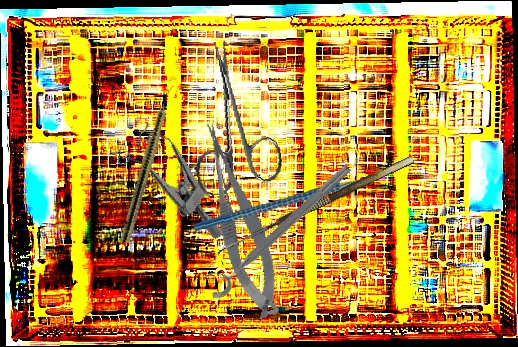Chopper: (192, 149, 391, 241)
Fixation Ring: (197, 153, 356, 303)
Handpiece: (119, 82, 177, 245)
Hook Surgical: (214, 155, 420, 266)
Iris Scissors: (175, 36, 286, 198)
Micro Scissor: (198, 116, 285, 324)
Speculum: (103, 115, 251, 241)
